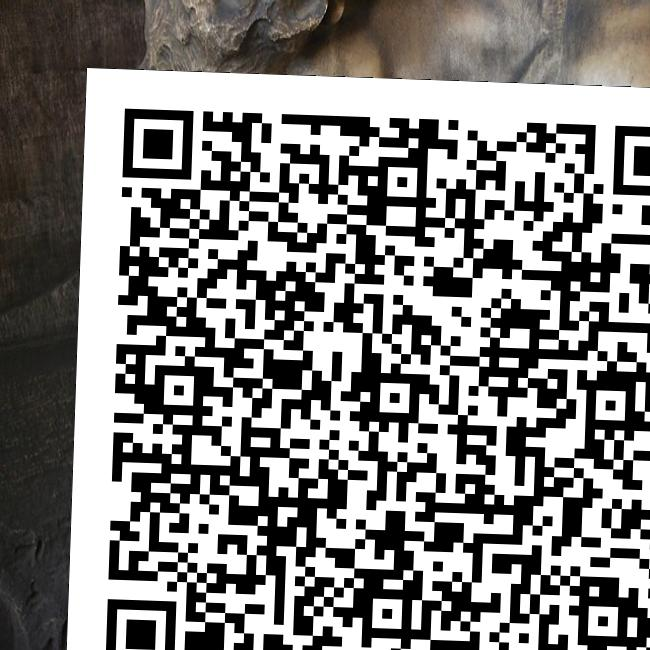qr_code: (66, 67, 649, 650)
